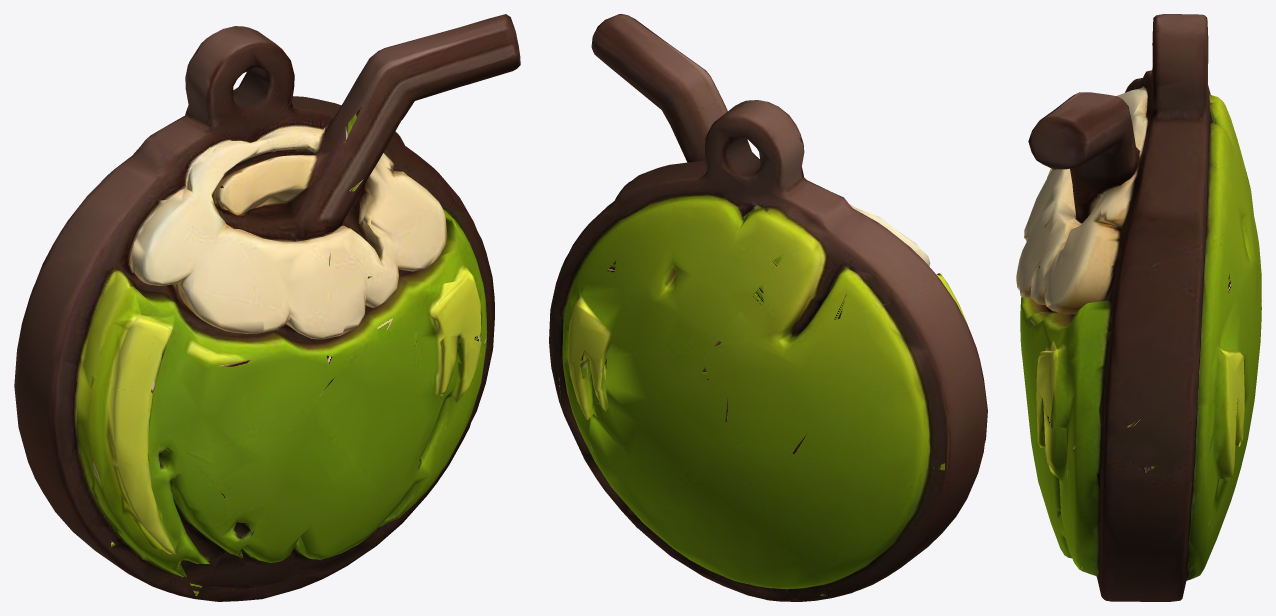
File: coconut_green.glb
The picture shows the model from 3 angles, left to right: view 1: azimuth 30°, elevation 25°; view 2: azimuth 150°, elevation 25°; view 3: azimuth 270°, elevation 25°; orthographic projection. The views are drawn at different scales.
Parts seen in each view (by area): view 1: prop; view 2: prop; view 3: prop.
Boxes of the visible parts, x1,y1,x2,y2 form: prop: (14, 14, 520, 601); prop: (549, 14, 987, 601); prop: (1016, 14, 1261, 601).
Bounding box in the file's own units: 0.8586 × 1 × 0.3922.
1 material, 1 textured.
